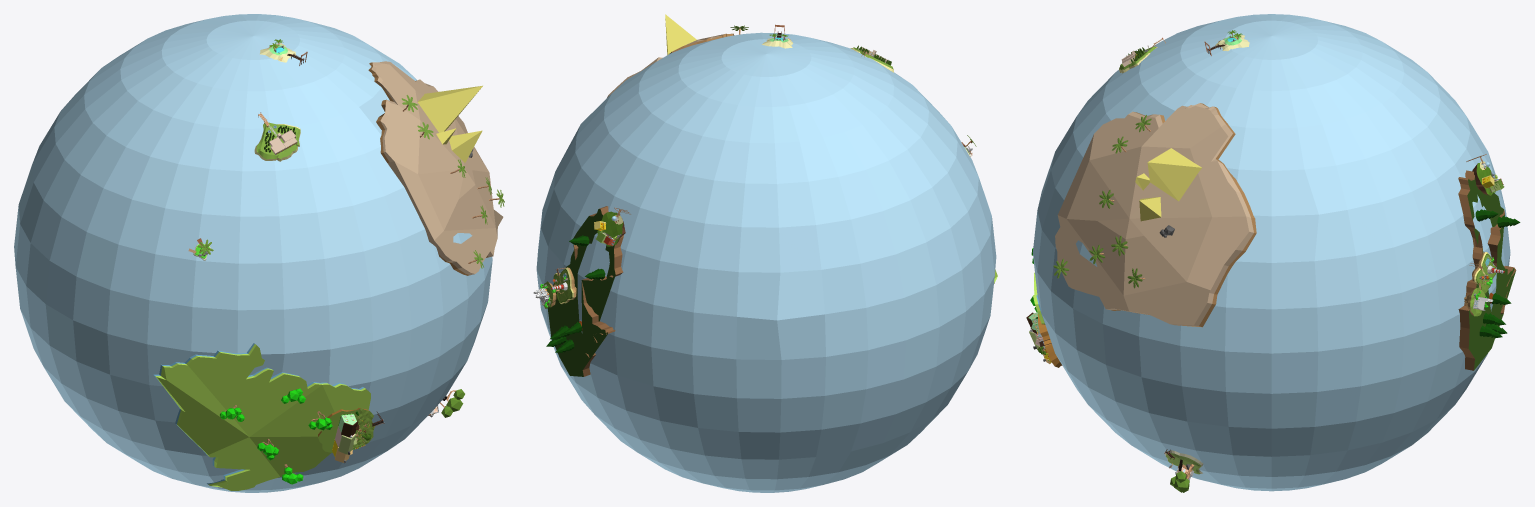
Rendered from Mapa_redondo.fbx.
3 views of the same model, side by side, from view 1: azimuth 30°, elevation 25°; view 2: azimuth 150°, elevation 25°; view 3: azimuth 270°, elevation 25° (orthographic). The views are drawn at different scales.
Parts seen in each view (by area): view 1: Sphere, Mapa_Brasil, DESERTO, BRASIL, SANTACRUZ, MADEIRA; view 2: Sphere, Cadiz, DESERTO; view 3: Sphere, DESERTO, Cadiz, SANTA_HELENA, BRASIL.
Boxes of the visible parts, left/top/right/bottom form: Sphere: left=14, top=14, right=492, bottom=492; Mapa_Brasil: left=154, top=343, right=370, bottom=490; DESERTO: left=368, top=61, right=504, bottom=275; BRASIL: left=318, top=408, right=384, bottom=463; SANTACRUZ: left=254, top=112, right=300, bottom=161; MADEIRA: left=260, top=39, right=307, bottom=65; Sphere: left=536, top=32, right=996, bottom=492; Cadiz: left=533, top=206, right=630, bottom=376; DESERTO: left=607, top=14, right=748, bottom=97; Sphere: left=1032, top=14, right=1510, bottom=491; DESERTO: left=1053, top=103, right=1256, bottom=327; Cadiz: left=1458, top=154, right=1520, bottom=370; SANTA_HELENA: left=1164, top=449, right=1203, bottom=492; BRASIL: left=1026, top=312, right=1062, bottom=367.
Bounding box in the file's own units: 30296 × 30681 × 31354.
